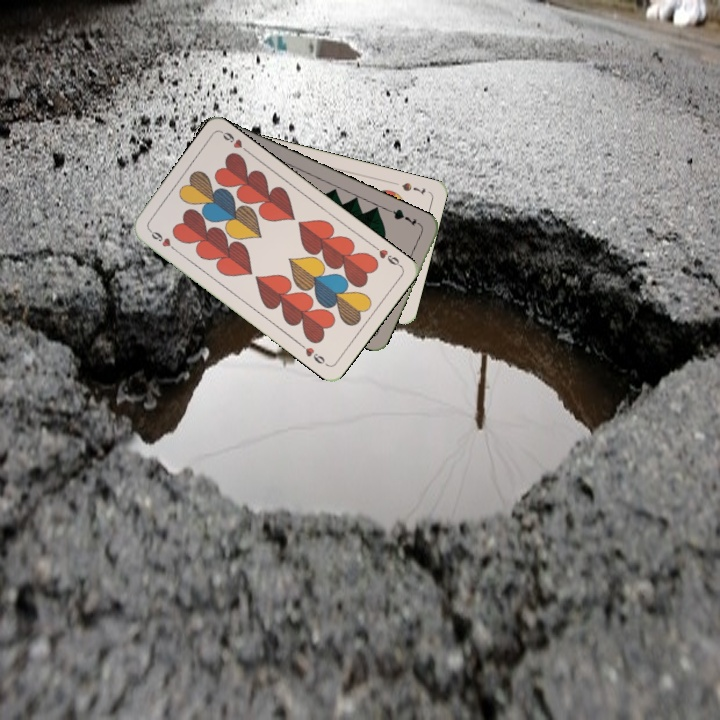G7: (386, 205, 424, 229)
H9: (369, 241, 404, 270), (145, 225, 180, 254)
S7: (398, 179, 428, 196)
